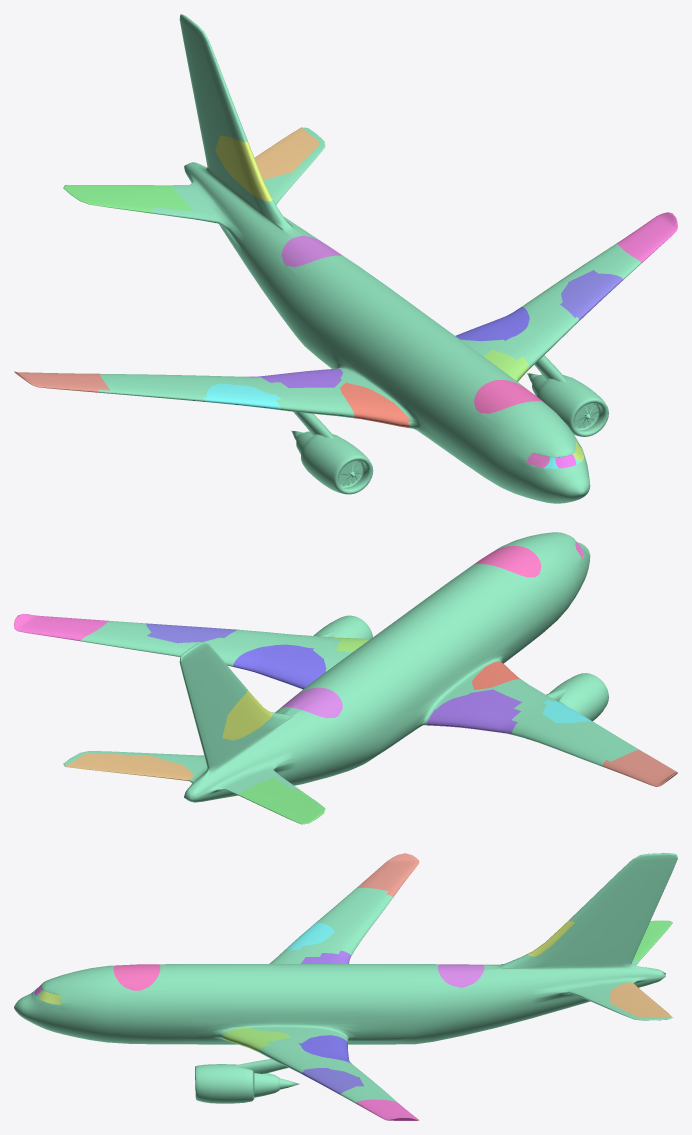
3 renders of one model, top to bottom at view 1: azimuth 30°, elevation 25°; view 2: azimuth 150°, elevation 25°; view 3: azimuth 270°, elevation 25°, orthographic. The views are drawn at different scales.
Parts seen in each view (by area): view 1: LEEk1, Langas_mat_id1; view 2: LEEk1; view 3: LEEk1.
Part boxes in pixels (left/top/right/bottom): LEEk1: left=14, top=14, right=677, bottom=503; Langas_mat_id1: left=526, top=442, right=583, bottom=468; LEEk1: left=14, top=532, right=677, bottom=824; LEEk1: left=14, top=853, right=677, bottom=1120.
Bounding box in the file's own units: 929 × 330 × 987.
